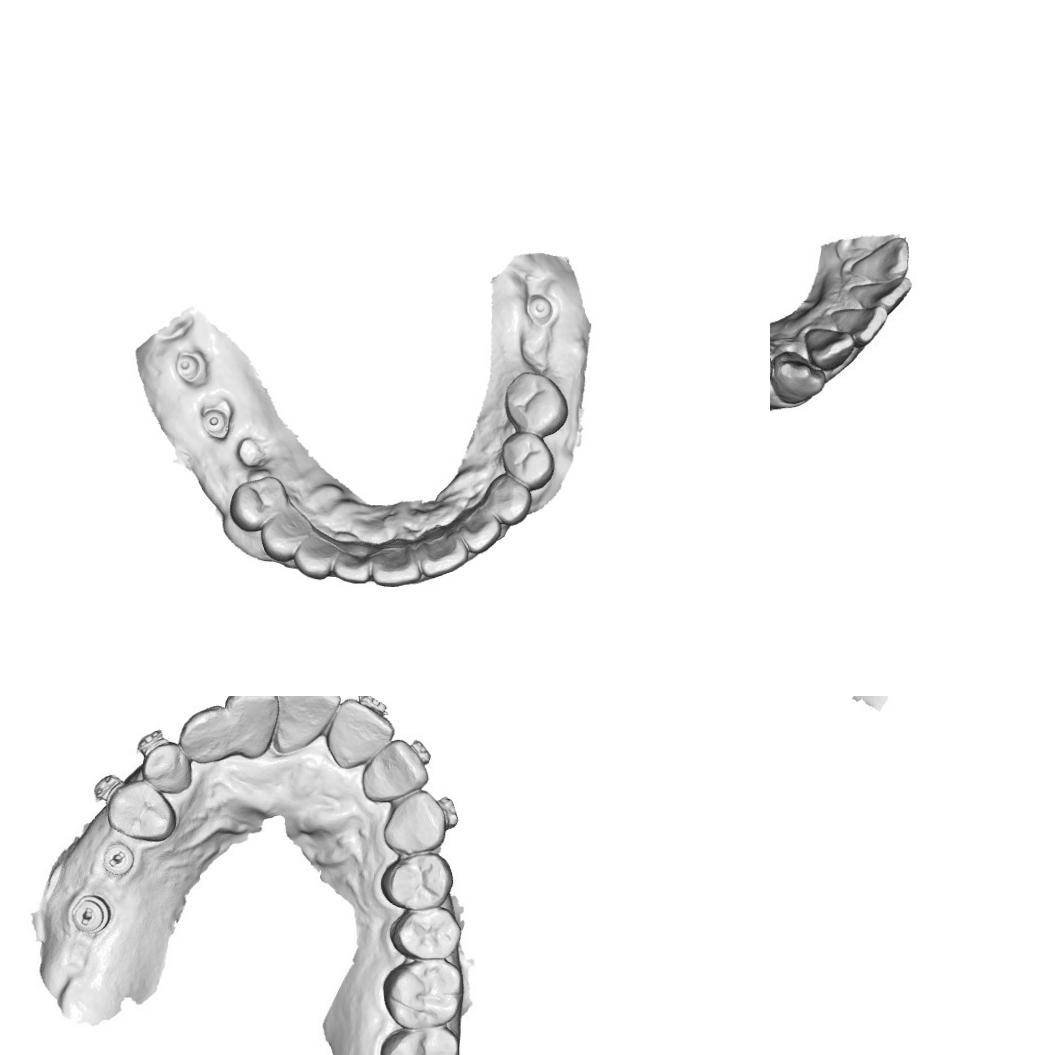canine: (382, 788, 446, 854), (770, 351, 825, 409), (481, 471, 534, 528), (140, 737, 192, 795), (290, 531, 340, 585)
implant: (520, 290, 557, 330), (173, 348, 206, 384), (198, 403, 231, 439)
implant_minus: (70, 892, 112, 938), (100, 840, 140, 882)
incisor: (326, 701, 386, 768), (414, 526, 471, 581), (228, 696, 280, 752), (366, 539, 424, 589), (178, 704, 228, 762), (368, 751, 416, 804), (278, 696, 331, 743), (853, 238, 906, 282), (852, 276, 910, 314), (460, 506, 502, 556), (332, 538, 374, 585), (806, 324, 850, 368), (836, 307, 883, 342)
molar: (384, 956, 463, 1026), (384, 1027, 464, 1055)
premolar: (501, 368, 572, 436), (226, 472, 294, 535), (497, 429, 560, 492), (392, 904, 457, 962), (256, 506, 315, 564), (112, 778, 171, 834), (386, 856, 447, 910)
